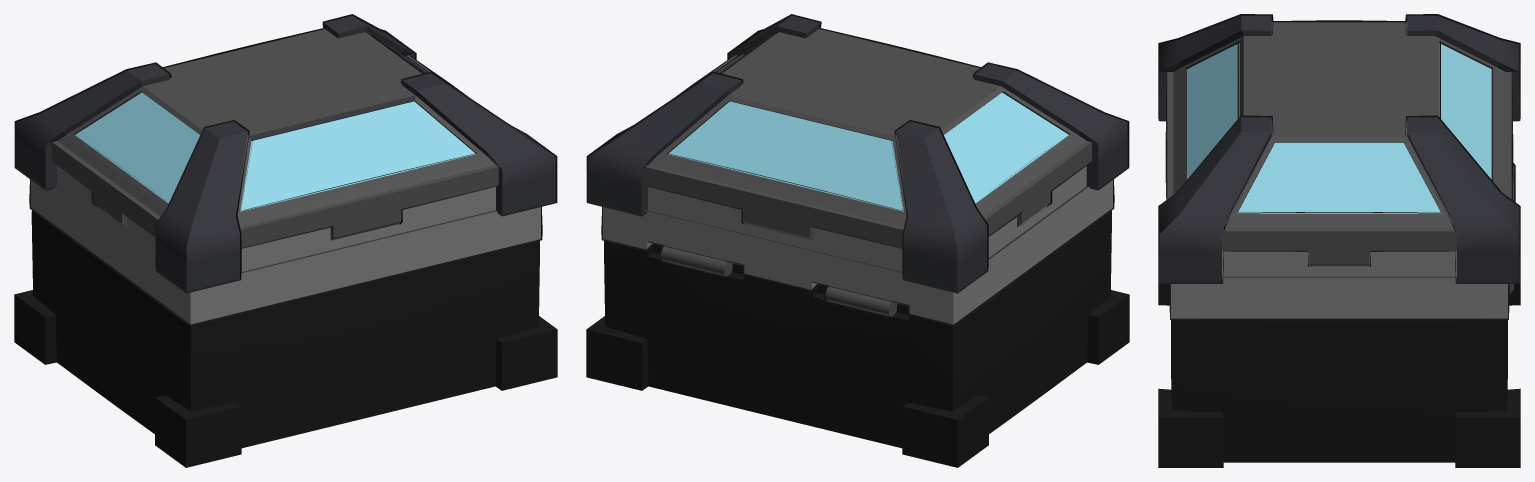
3 renders of one model, left to right at view 1: azimuth 30°, elevation 25°; view 2: azimuth 150°, elevation 25°; view 3: azimuth 270°, elevation 25°, orthographic. The views are drawn at different scales.
Visible parts, largest first — view 1: Top, Bottom; view 2: Top, Bottom; view 3: Top, Bottom.
Part boxes in pixels (x1,y1,x2,y2): Top: [14, 14, 557, 325]; Bottom: [14, 209, 557, 467]; Top: [586, 14, 1129, 325]; Bottom: [586, 209, 1129, 467]; Top: [1158, 14, 1520, 320]; Bottom: [1158, 281, 1520, 467].
Bounding box in the file's own units: 48.87 × 35.81 × 39.11.
